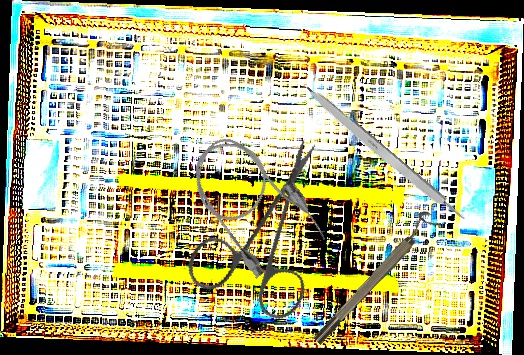Cannula: (175, 119, 333, 287)
Fixation Ring: (305, 208, 442, 347)
Iris Scissors: (159, 136, 368, 344)
Scalpel Handle: (299, 82, 470, 228)
